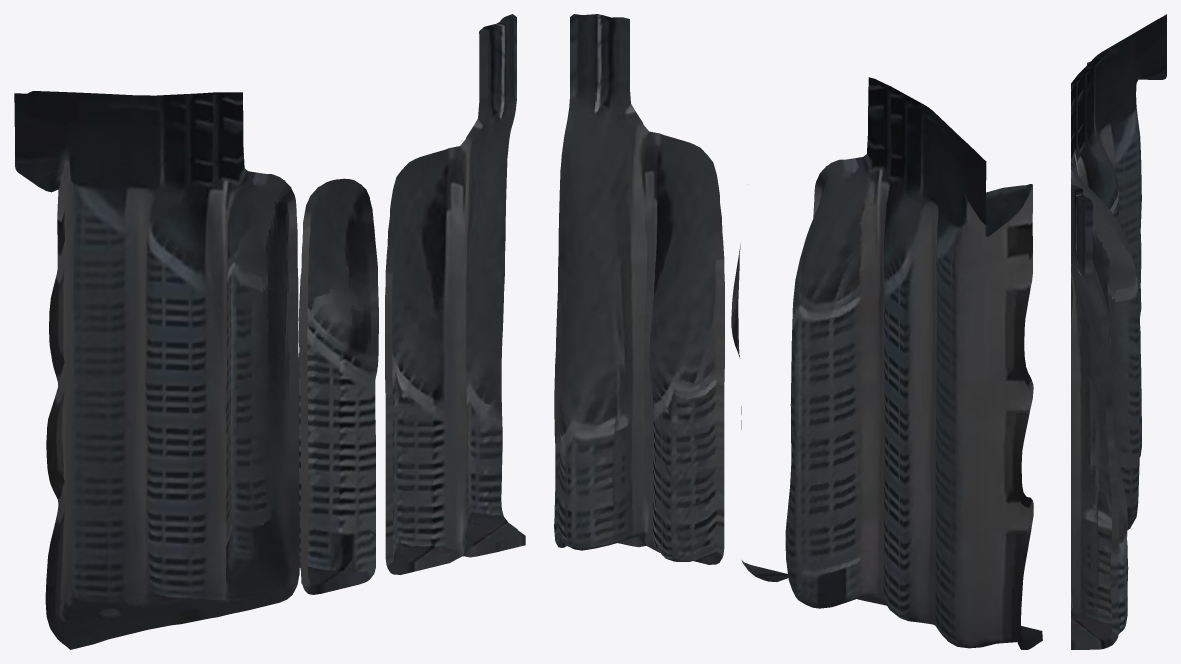
Rendered from z20-167778-405230-h0-yup-uvflip-v3-world.glb.
3 renders of one model, left to right at view 1: azimuth 30°, elevation 25°; view 2: azimuth 150°, elevation 25°; view 3: azimuth 270°, elevation 25°, orthographic. The views are drawn at different scales.
Bounding box in the file's own units: 30.2 × 33.08 × 6.44.
Materials: 1 (1 with a texture image).
